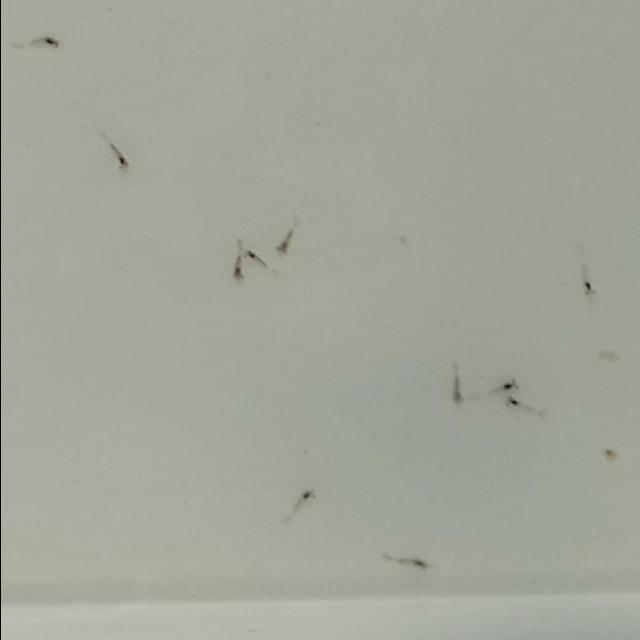shrimp-seed: (29, 26, 63, 58), (106, 147, 134, 175), (274, 230, 294, 258), (576, 278, 600, 301), (226, 260, 247, 282), (495, 375, 519, 394), (448, 383, 466, 407), (242, 246, 260, 266), (294, 488, 316, 504), (407, 555, 429, 571), (500, 394, 520, 410)
